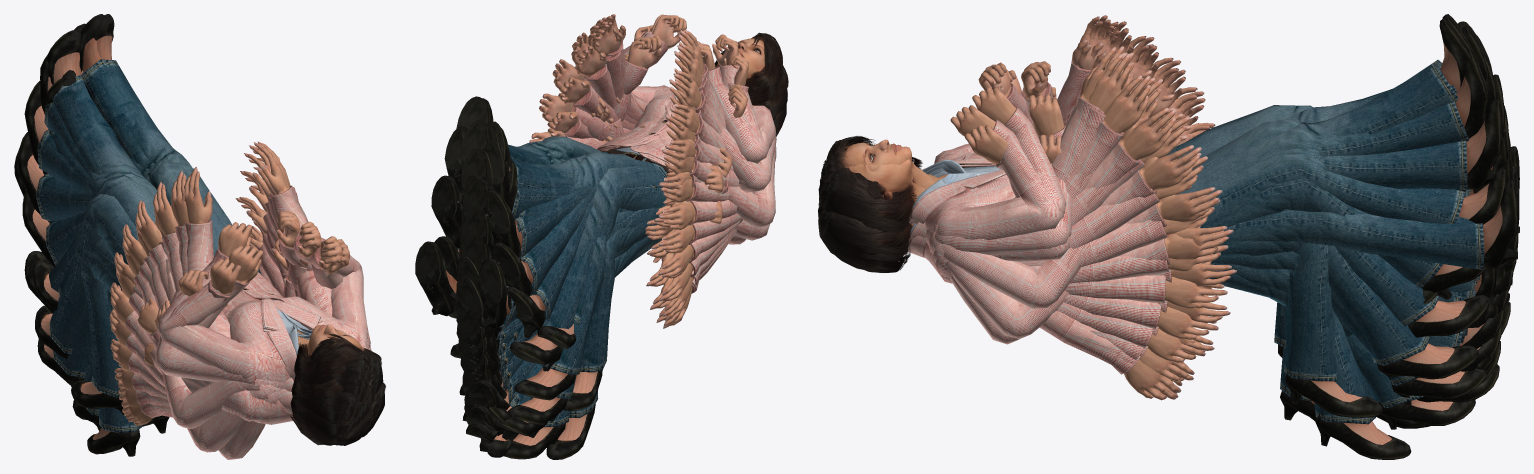
File: casual-female.glb
The picture shows the model from 3 angles, left to right: view 1: azimuth 30°, elevation 25°; view 2: azimuth 150°, elevation 25°; view 3: azimuth 270°, elevation 25°; orthographic projection. The views are drawn at different scales.
Parts seen in each view (by area): view 1: Run_7, Run_9, Walk_5, Walk_17, Run_6, Run_0, Walk_22, Run_8, Walk_0, Run_1, Run_2, Walk_16 (+19 smaller); view 2: Run_9, Run_7, Walk_1, Walk_22, Walk_2, Run_0, Walk_23, Walk_0, Run_8, Idle, Walk_3, Walk_5 (+23 smaller); view 3: Run_4, Run_2, Walk_13, Idle, Walk_10, Walk_14, Run_1, Walk_15, Walk_12, Walk_11, Run_3, Walk_17 (+23 smaller).
Part boxes in pixels (<box>): Run_7: <box>62,70,375,431</box>; Run_9: <box>71,249,369,428</box>; Walk_5: <box>66,30,361,423</box>; Walk_17: <box>79,14,385,425</box>; Run_6: <box>148,161,377,385</box>; Run_0: <box>32,194,379,452</box>; Walk_22: <box>35,229,355,444</box>; Run_8: <box>87,170,361,456</box>; Walk_0: <box>22,191,361,445</box>; Run_1: <box>42,170,383,459</box>; Run_2: <box>46,76,382,403</box>; Walk_16: <box>94,14,382,422</box>; Run_9: <box>563,54,782,410</box>; Run_7: <box>501,32,780,459</box>; Walk_1: <box>456,93,742,361</box>; Walk_22: <box>461,89,787,400</box>; Walk_2: <box>456,59,739,373</box>; Run_0: <box>494,25,769,352</box>; Walk_23: <box>470,113,781,371</box>; Walk_0: <box>457,116,779,348</box>; Run_8: <box>546,37,782,459</box>; Idle: <box>415,145,675,329</box>; Walk_3: <box>458,32,735,384</box>; Walk_5: <box>462,14,788,390</box>; Run_4: <box>822,87,1488,417</box>; Run_2: <box>821,87,1475,429</box>; Walk_13: <box>935,87,1519,339</box>; Idle: <box>905,146,1519,283</box>; Walk_10: <box>821,128,1507,379</box>; Walk_14: <box>910,57,1501,362</box>; Run_1: <box>819,105,1510,347</box>; Walk_15: <box>827,36,1507,381</box>; Walk_12: <box>865,123,1516,308</box>; Walk_11: <box>820,150,1511,337</box>; Run_3: <box>823,94,1411,459</box>; Walk_17: <box>818,14,1498,400</box>.
Size of the model in its own units: 0.6701 by 1.22 by 1.77.
3 materials, 3 textured.
